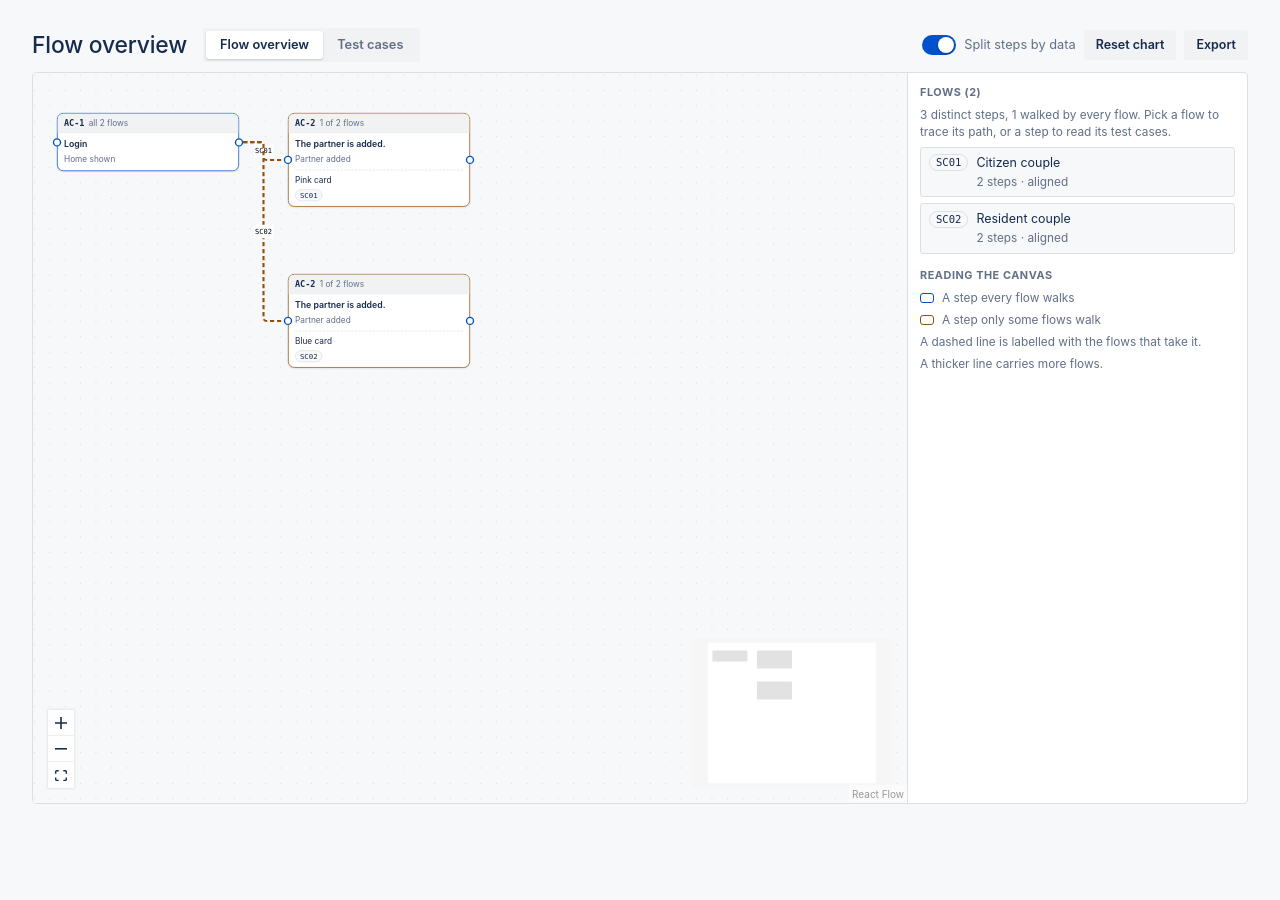
Test: FlowOverviewPage › says so where a flow has no test case for the step yet
expect the heading "Flow overview" is shown: met, box [32,29,187,62]
expect the number of elements with class "fo-node" is 3: met, box [57,113,239,172]; [288,113,470,207]; [288,274,470,368]
Click the text "Pink card".
click(313, 181)  # box [295,176,332,186]
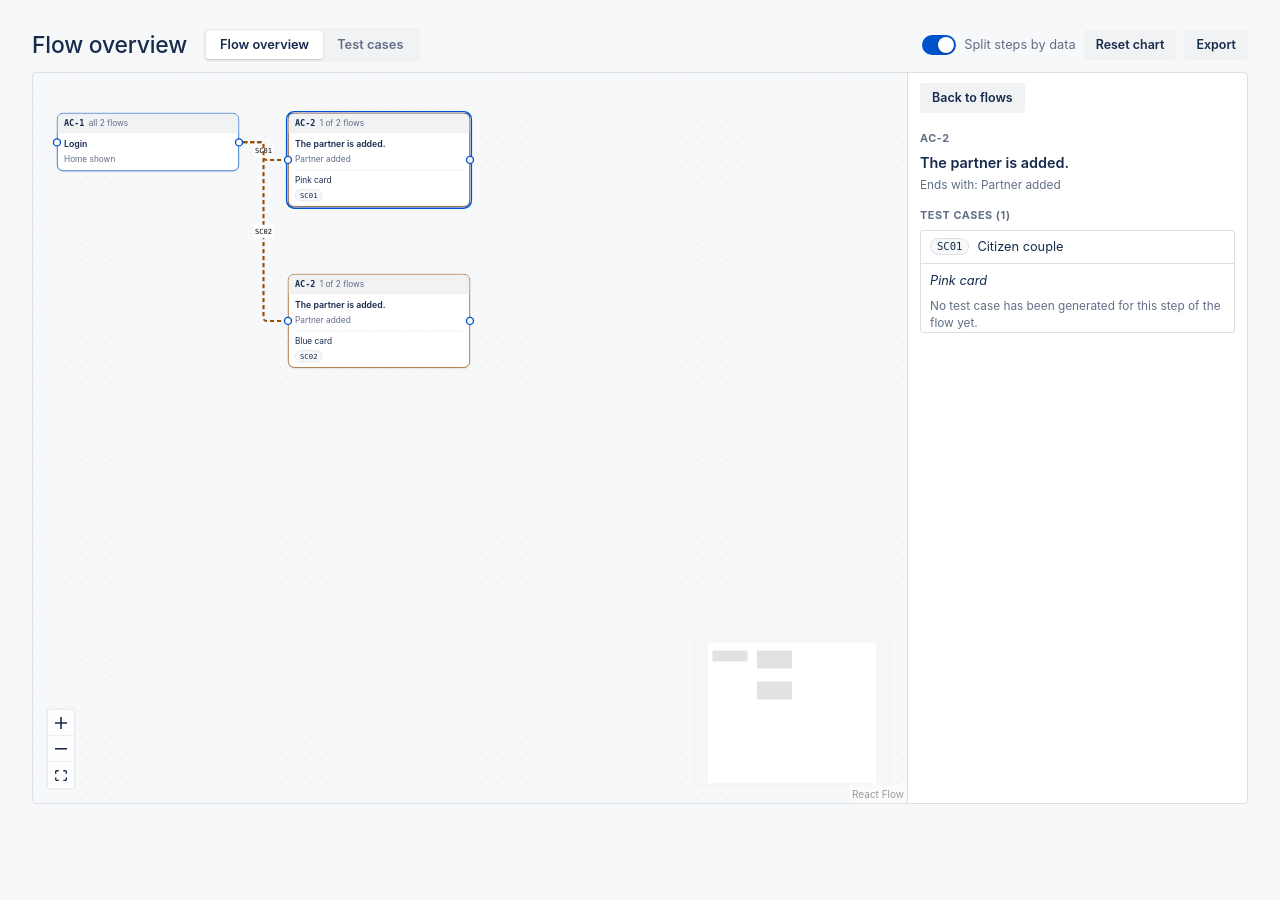
expect the text "No test case has been generated" is shown: met, box [930,299,1220,330]
